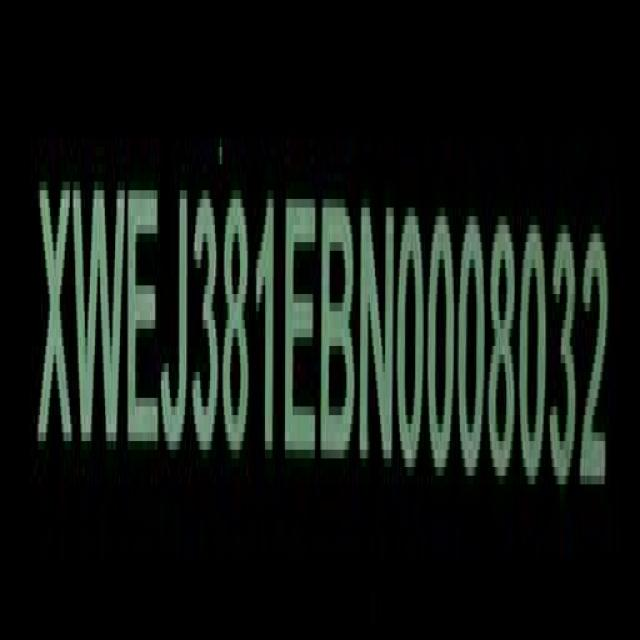0: (428, 207, 458, 481), (398, 203, 427, 478), (456, 211, 485, 482), (520, 216, 549, 487)
1: (255, 188, 283, 468)
2: (583, 228, 611, 497)
3: (193, 188, 223, 464), (548, 225, 578, 493)
8: (221, 188, 251, 464), (489, 217, 518, 486)
B: (321, 194, 357, 474)
E: (128, 177, 164, 463), (284, 187, 320, 471)
J: (161, 166, 189, 464)
N: (359, 199, 398, 474)
W: (74, 174, 127, 460)
X: (35, 175, 72, 462)
